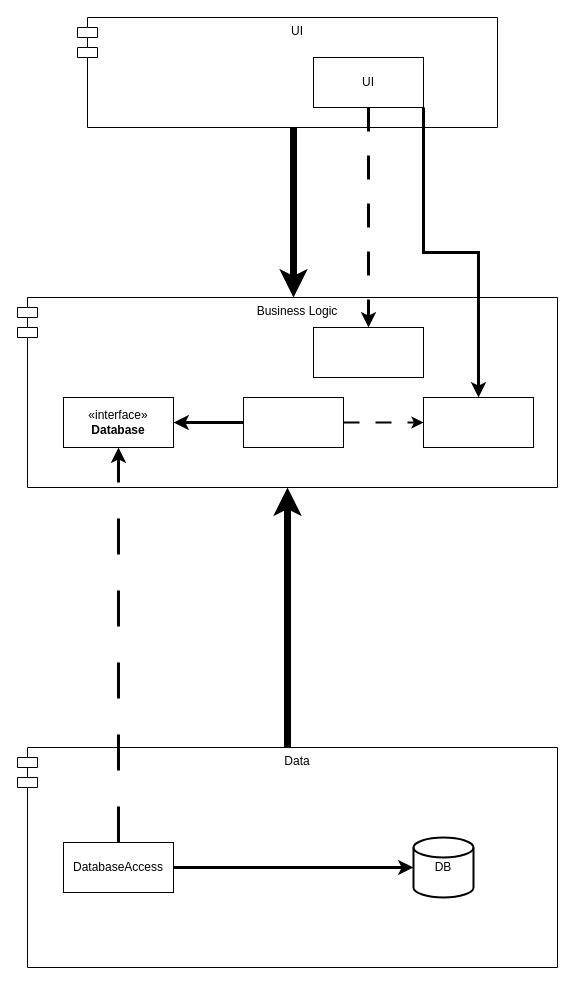
Some shapes in this 575 by 985 pixel diagram are drawn without their labels. The shapes that lost their labels are listed below. From the top down, each one's centre as x and y in pixels, then its label:
At [368,352]: "«interface» UI".
At [293,422]: "Service".
At [478,422]: "«interface» Service".
